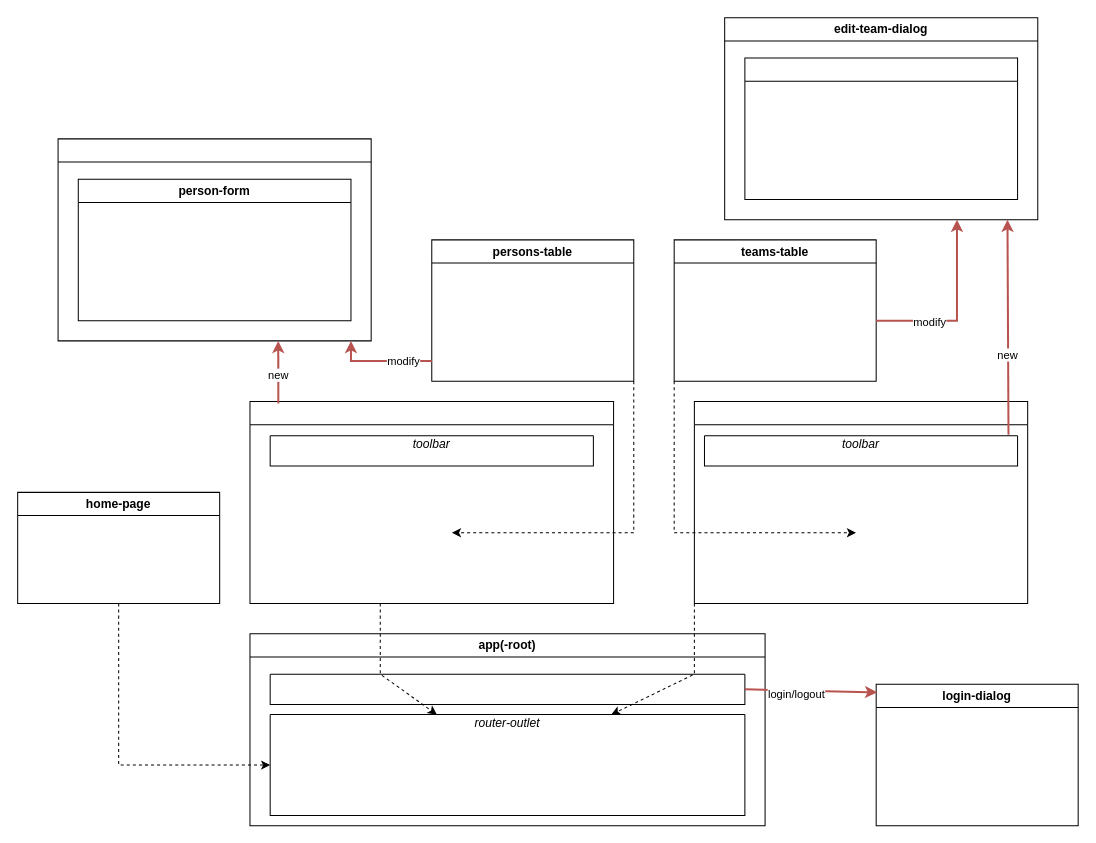
This 1096x843 diagram has some shape labels left out. The box of each missing label's shape, as (x1, y1, x2, y2) in pixels:
edit-person-dialog: (57, 138, 371, 341)
navigation: (269, 673, 745, 704)
persons-page: (249, 400, 614, 603)
team-form: (744, 57, 1018, 199)
teams-page: (693, 400, 1028, 603)
